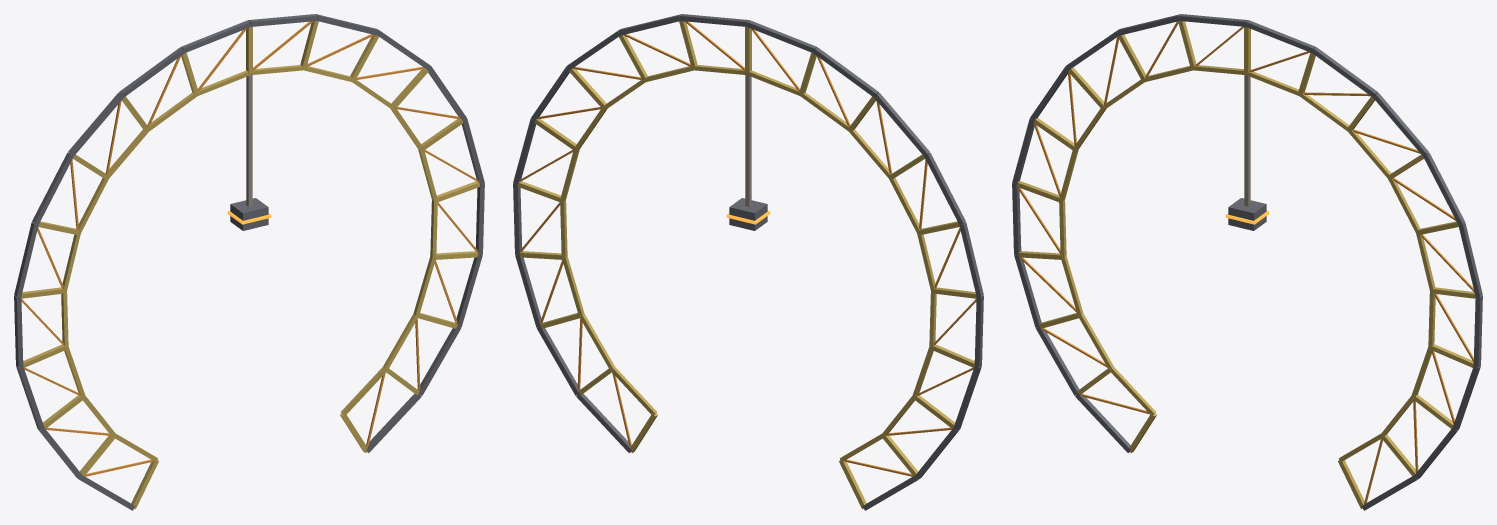
The model's file is 11_weld_gantry.glb.
The picture shows the model from 3 angles, left to right: view 1: azimuth 30°, elevation 25°; view 2: azimuth 150°, elevation 25°; view 3: azimuth 330°, elevation 25°; orthographic projection.
Parts seen in each view (by area): view 1: weld_gantry_truss, weld_gantry_hulldark, weld_gantry_hazard, weld_gantry_pipe; view 2: weld_gantry_truss, weld_gantry_hulldark, weld_gantry_hazard, weld_gantry_pipe; view 3: weld_gantry_truss, weld_gantry_hulldark, weld_gantry_hazard, weld_gantry_pipe.
Boxes of the visible parts, x1,y1,x2,y2 form: weld_gantry_truss: (21, 21, 479, 508); weld_gantry_hulldark: (14, 14, 484, 510); weld_gantry_hazard: (21, 21, 478, 476); weld_gantry_pipe: (246, 73, 252, 206); weld_gantry_truss: (518, 21, 976, 508); weld_gantry_hulldark: (513, 14, 983, 510); weld_gantry_hazard: (519, 21, 976, 476); weld_gantry_pipe: (745, 73, 751, 206); weld_gantry_truss: (1017, 21, 1475, 508); weld_gantry_hulldark: (1012, 14, 1482, 510); weld_gantry_hazard: (1017, 21, 1474, 504); weld_gantry_pipe: (1244, 75, 1250, 206).
Bounding box in the file's own units: 55.18 × 51.8 × 3.
